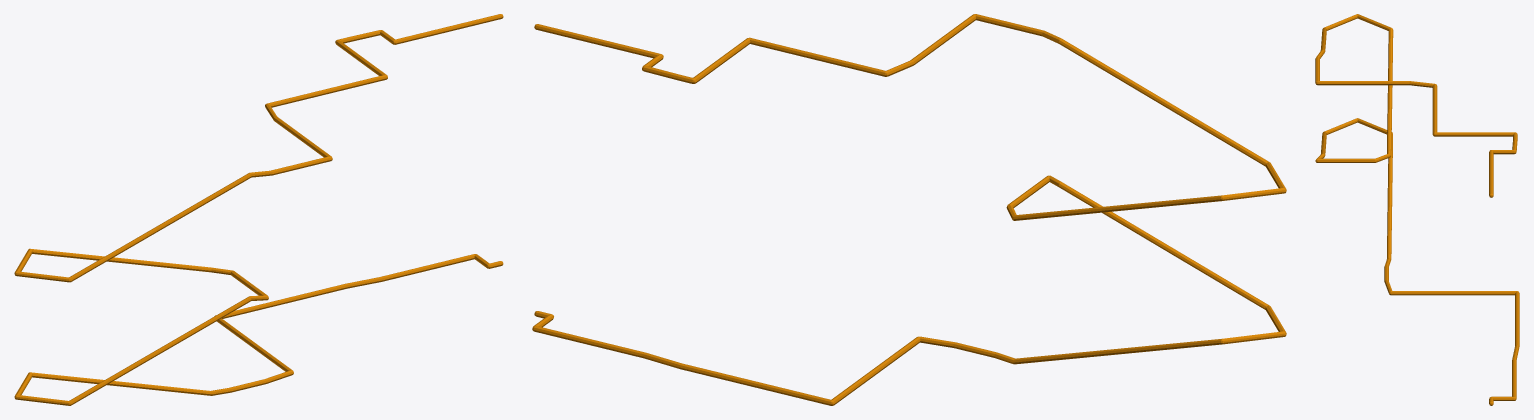
3 views of the same model, side by side, from view 1: azimuth 30°, elevation 25°; view 2: azimuth 150°, elevation 25°; view 3: azimuth 270°, elevation 25° (orthographic). The views are drawn at different scales.
Bounding box in the file's own units: 2406 × 1020 × 889.
